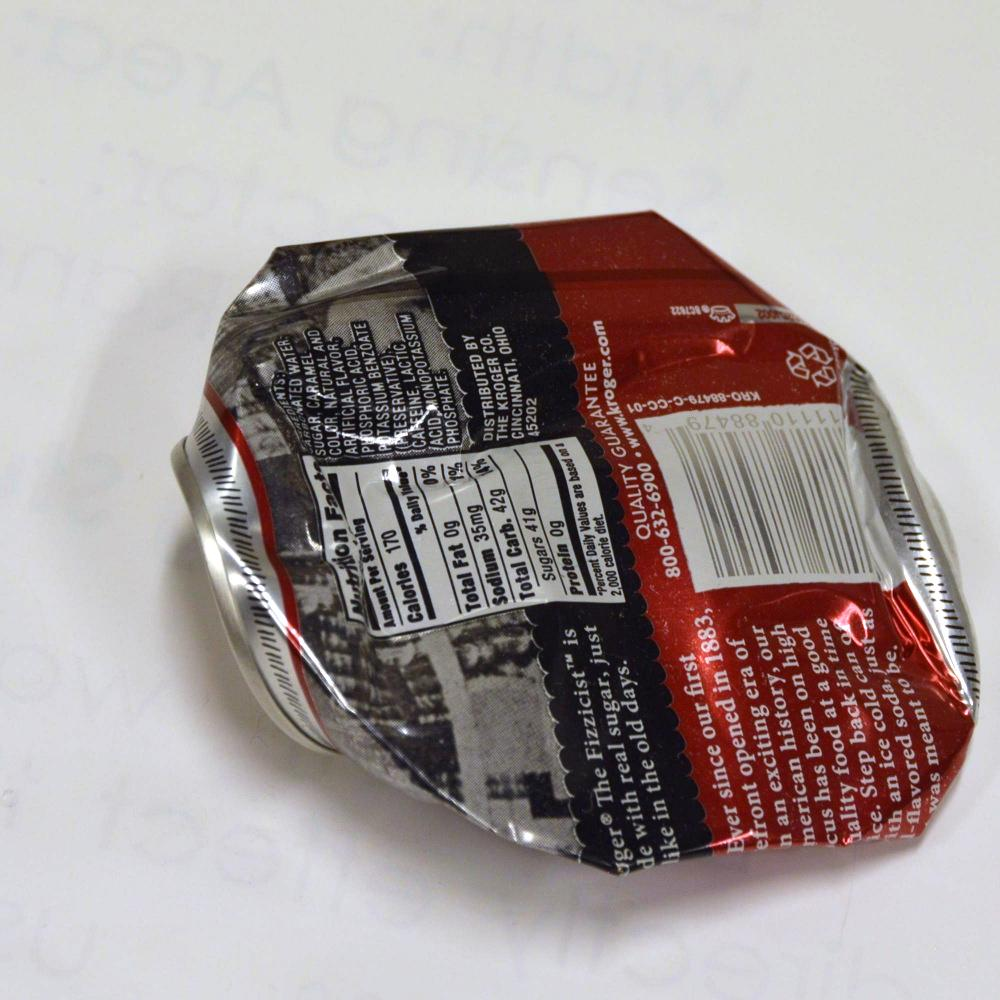Metal: (103, 162, 975, 927)
